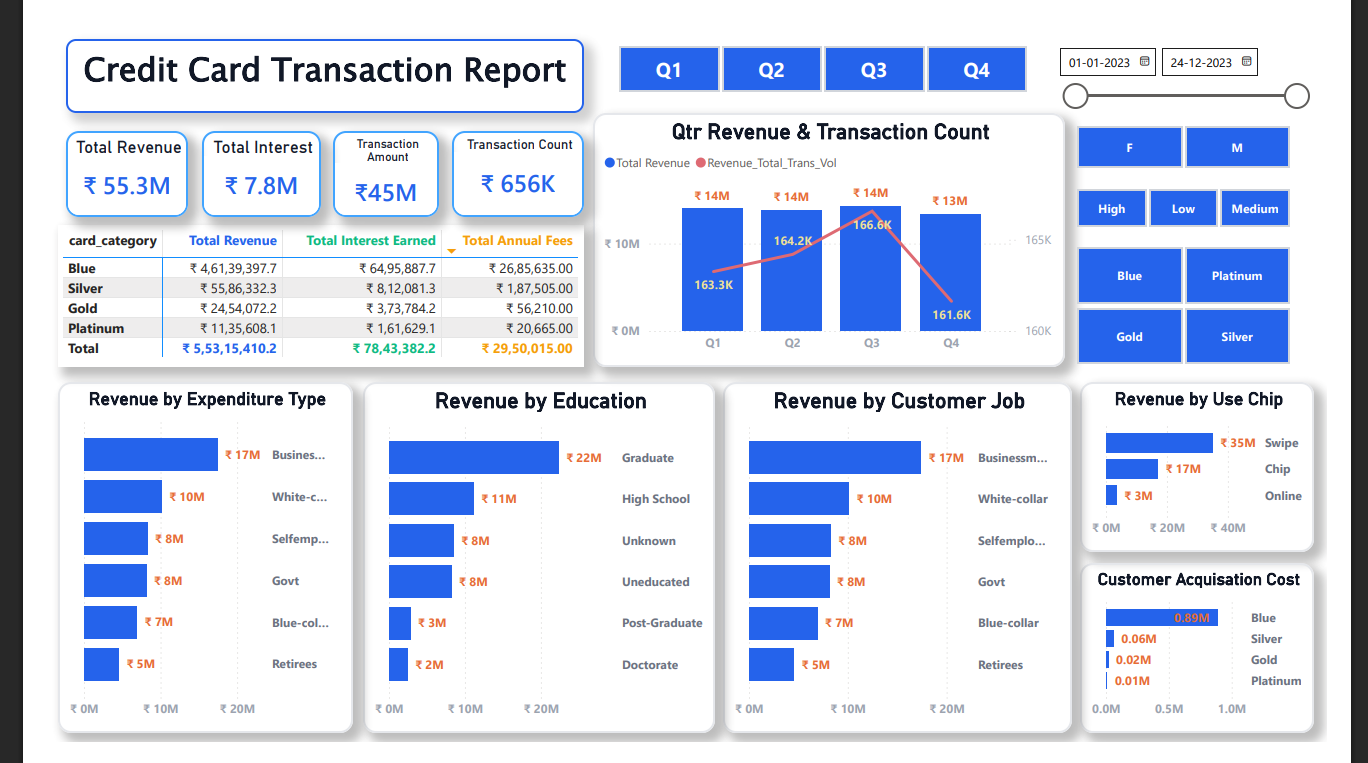

The dashboard page shown, as its layout file describes it:
{"tool":"powerbi","page":{"name":"Transaction Review","canvas":[1280,720],"ordinal":0},"visuals":[{"type":"textbox","box":[19,17.3,518.4,73.3],"z":0},{"type":"lineStackedColumnComboChart","title":"Qtr Revenue & Transaction Count","fields":{"Category":["public cc_detail.qtr"],"Y":["public cc_detail.Total Revenue"],"Y2":["public cc_detail.Revenue_Total_Trans_Vol"]},"box":[546.4,90.9,471.8,254.5],"z":1000},{"type":"pivotTable","fields":{"Rows":["public cc_detail.card_category"],"Values":["public cc_detail.Total Revenue","public cc_detail.Total Interest Earned","public cc_detail.Total Annual Fees"]},"box":[10.7,203.3,526.4,142],"z":2000},{"type":"slicer","fields":{"Values":["public cc_detail.qtr"]},"box":[546.4,17.3,457.3,60],"z":3000},{"type":"slicer","fields":{"Values":["public cust_detail.gender"]},"box":[1004,97.5,263.1,55.2],"z":4000},{"type":"slicer","fields":{"Values":["public cc_detail.card_category"]},"box":[1003.9,218.4,262.7,130.5],"z":5000},{"type":"slicer","fields":{"Values":["public cust_detail.IncomeGroup"]},"box":[1003.9,159.8,262.7,52.4],"z":6000},{"type":"slicer","fields":{"Values":["public cc_detail.week_start_date"]},"box":[1003.9,16.9,262.7,73.7],"z":7000},{"type":"clusteredBarChart","title":"Revenue by Use Chip","fields":{"Y":["public cc_detail.Total Revenue"],"Category":["public cc_detail.use_chip"]},"box":[1033.2,360.4,233.5,169.5],"z":8000},{"type":"clusteredBarChart","title":"Customer Acquisation Cost","fields":{"Y":["Sum(public cc_detail.customer_acq_cost)"],"Category":["public cc_detail.card_category"]},"box":[1033.2,541.5,233.5,169.5],"z":9000},{"type":"clusteredBarChart","title":"Revenue by Customer Job","fields":{"Y":["public cc_detail.Total Revenue"],"Category":["public cust_detail.customer_job"]},"box":[676.4,360.4,348.8,350.6],"z":10000},{"type":"clusteredBarChart","title":"Revenue by Education","fields":{"Y":["public cc_detail.Total Revenue"],"Category":["public cust_detail.education_level"]},"box":[316,360.4,352.4,350.6],"z":11000},{"type":"clusteredBarChart","title":"Revenue by Expenditure Type","fields":{"Y":["public cc_detail.Total Revenue"],"Category":["public cust_detail.customer_job"]},"box":[10.7,360.4,295.6,350.6],"z":12000},{"type":"cardVisual","title":"Total Revenue","fields":{"Data":["public cc_detail.Total Revenue"]},"box":[19.1,109.1,121.8,85.5],"z":13000},{"type":"cardVisual","title":"Total Interest","fields":{"Data":["public cc_detail.Total Interest Earned"]},"box":[154.5,109.1,119.1,85.5],"z":14000},{"type":"cardVisual","title":"Transaction Amount","fields":{"Data":["public cc_detail.Transaction Amount"]},"box":[286.4,109.1,105.5,85.5],"z":15000},{"type":"cardVisual","title":"Transaction Count","fields":{"Data":["Sum(public cc_detail.total_trans_vol)"]},"box":[404.5,109.1,132.7,85.5],"z":16000}]}

Visuals, with their boxes in screenshot pixels (x1, y1, x2, y2), scaled from the page's 1280x720 canvas onto the 1368x763 screenshot:
textbox: Rect(20, 18, 574, 96)
"Qtr Revenue & Transaction Count" lineStackedColumnComboChart: Rect(584, 96, 1088, 366)
pivotTable - public cc_detail.card_category x public cc_detail.Total Revenue: Rect(11, 215, 574, 366)
slicer - public cc_detail.qtr: Rect(584, 18, 1073, 82)
slicer - public cust_detail.gender: Rect(1073, 103, 1354, 162)
slicer - public cc_detail.card_category: Rect(1073, 231, 1354, 370)
slicer - public cust_detail.IncomeGroup: Rect(1073, 169, 1354, 225)
slicer - public cc_detail.week_start_date: Rect(1073, 18, 1354, 96)
"Revenue by Use Chip" clusteredBarChart: Rect(1104, 382, 1354, 562)
"Customer Acquisation Cost" clusteredBarChart: Rect(1104, 574, 1354, 753)
"Revenue by Customer Job" clusteredBarChart: Rect(723, 382, 1096, 753)
"Revenue by Education" clusteredBarChart: Rect(338, 382, 714, 753)
"Revenue by Expenditure Type" clusteredBarChart: Rect(11, 382, 327, 753)
"Total Revenue" cardVisual: Rect(20, 116, 151, 206)
"Total Interest" cardVisual: Rect(165, 116, 292, 206)
"Transaction Amount" cardVisual: Rect(306, 116, 419, 206)
"Transaction Count" cardVisual: Rect(432, 116, 574, 206)
